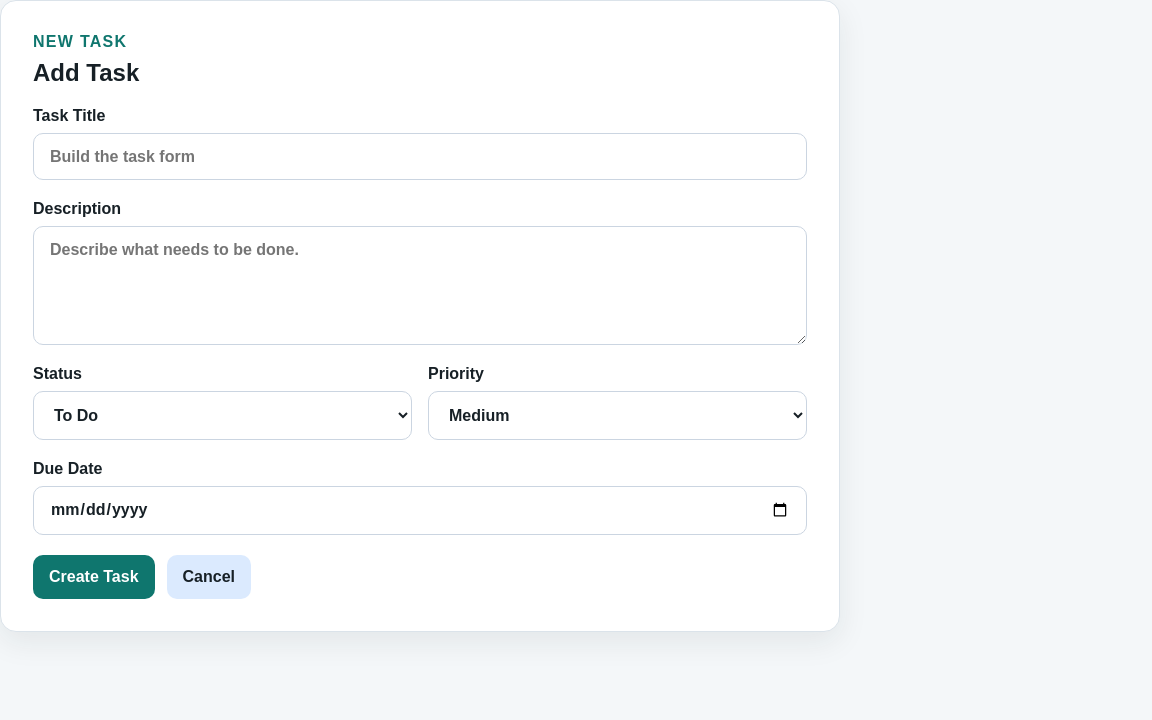
Test: TaskForm › shows an error when title is missing
The width and height of the screenshot is (1152, 720).
What coordinates should you click on to do the following:
click the button "Create Task"
I would click on:
 (94, 577)
Its box is [33,555,154,599].
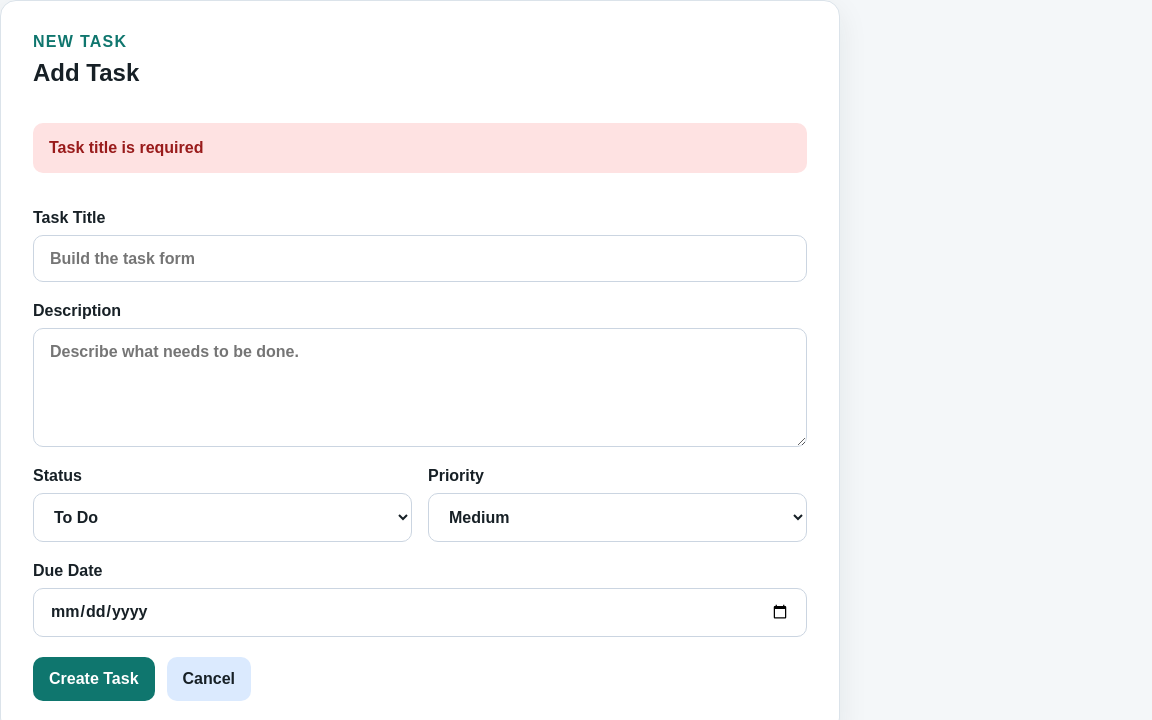
expect the text "Task title is required" is shown: met, box [33,123,807,173]
